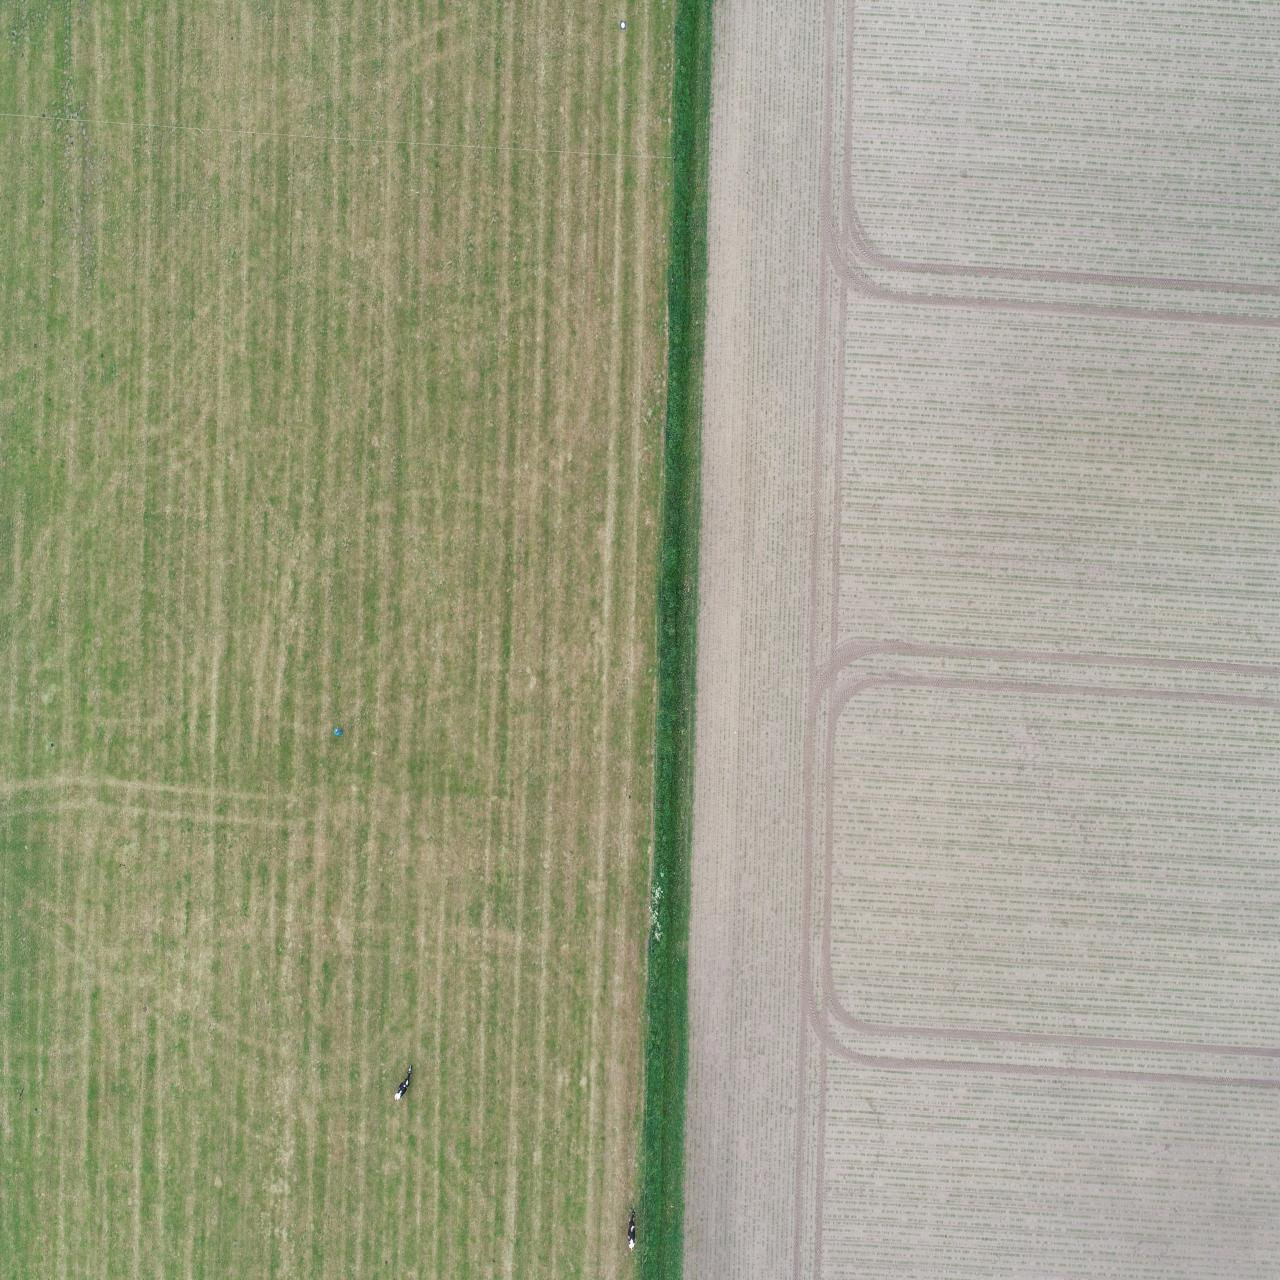cow: (394, 1061, 415, 1102), (626, 1205, 638, 1255)
